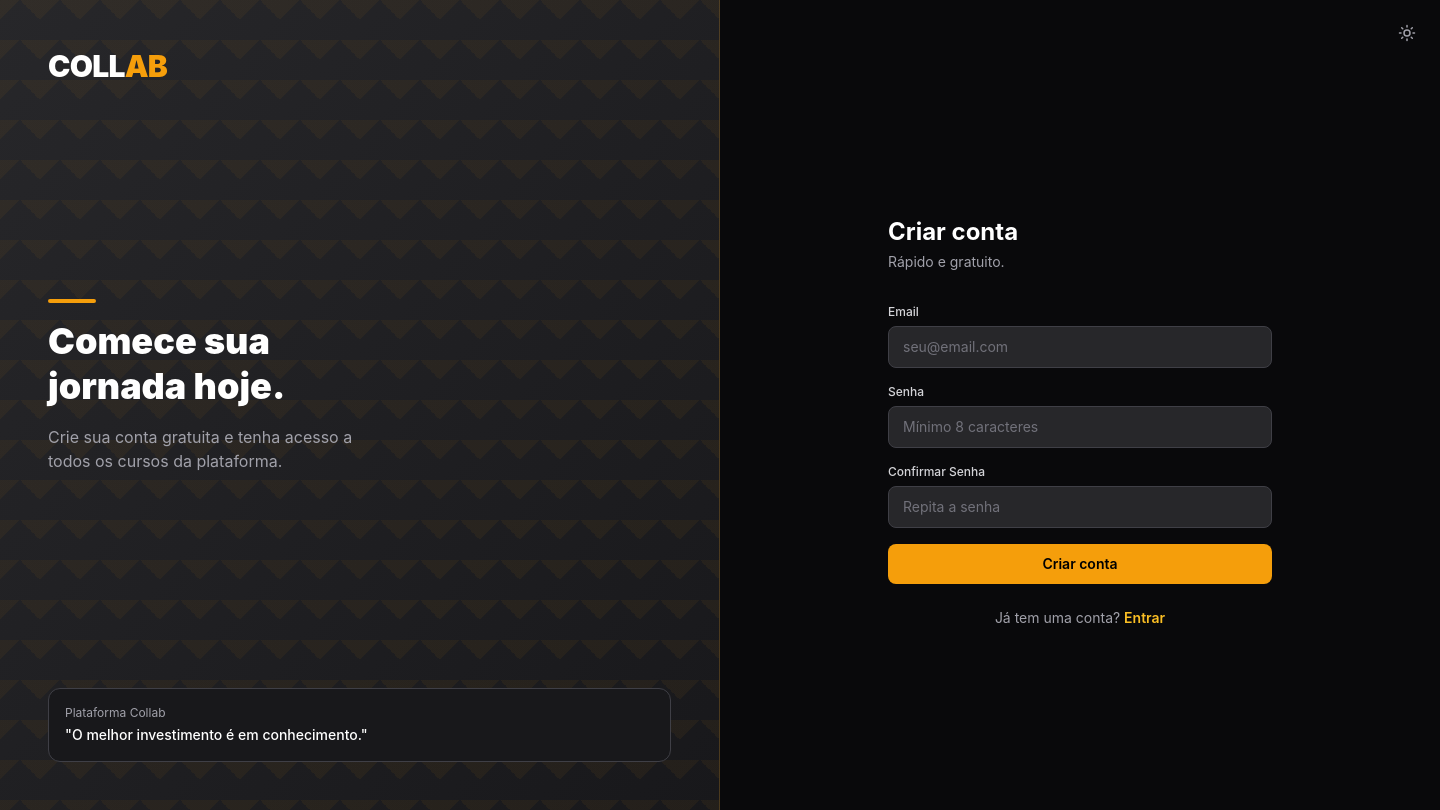
Scenario: SignupPage › shows error when passwords do not match
The image size is (1440, 810).
In the field with placeholder "seu@email.com": (1080, 347) [888,326,1272,368], type "a@b.com"
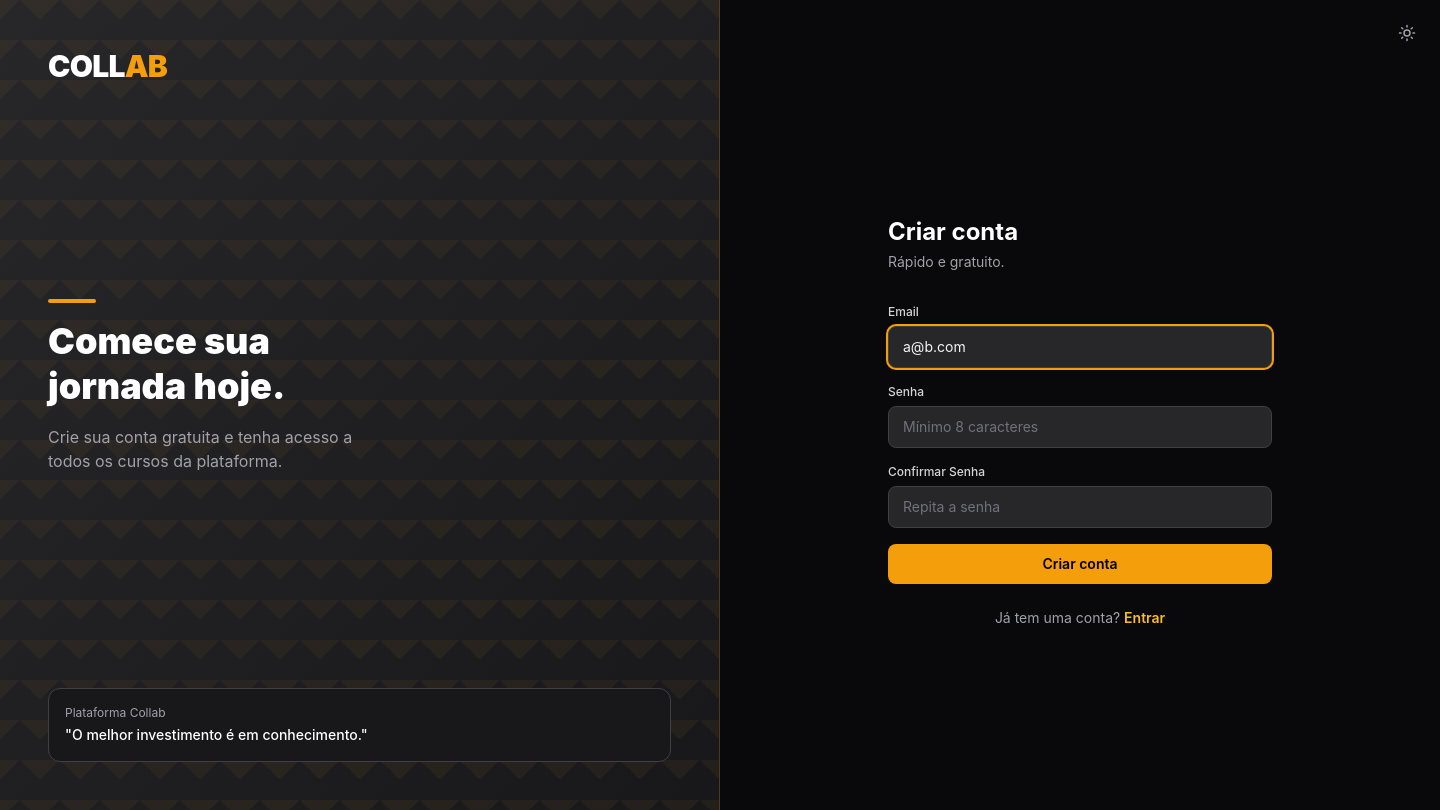
In the password field with placeholder "Mínimo 8 caracteres": (1080, 427) [888,406,1272,448], type "password1"
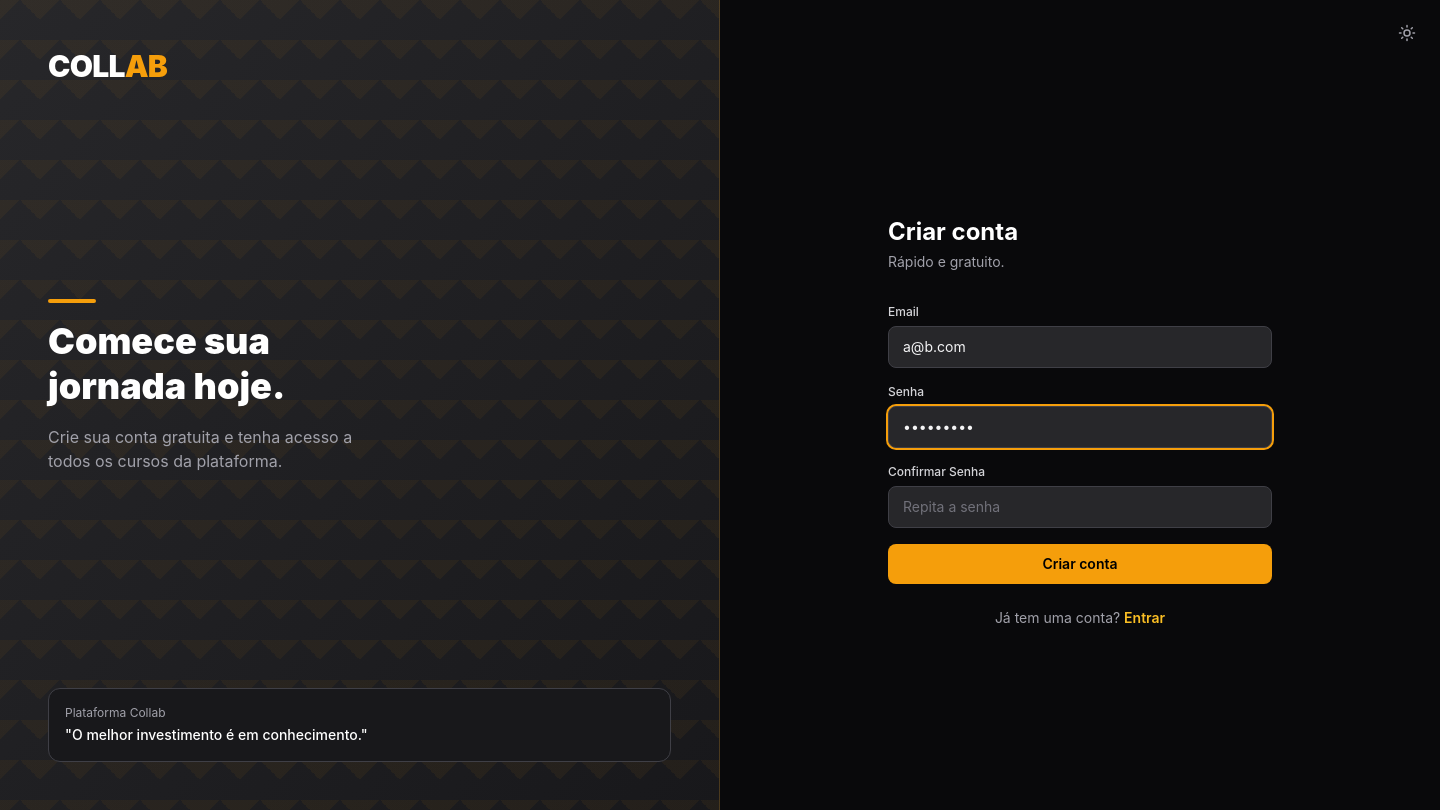
In the password field with placeholder "Repita a senha": (1080, 507) [888,486,1272,528], type "password2"
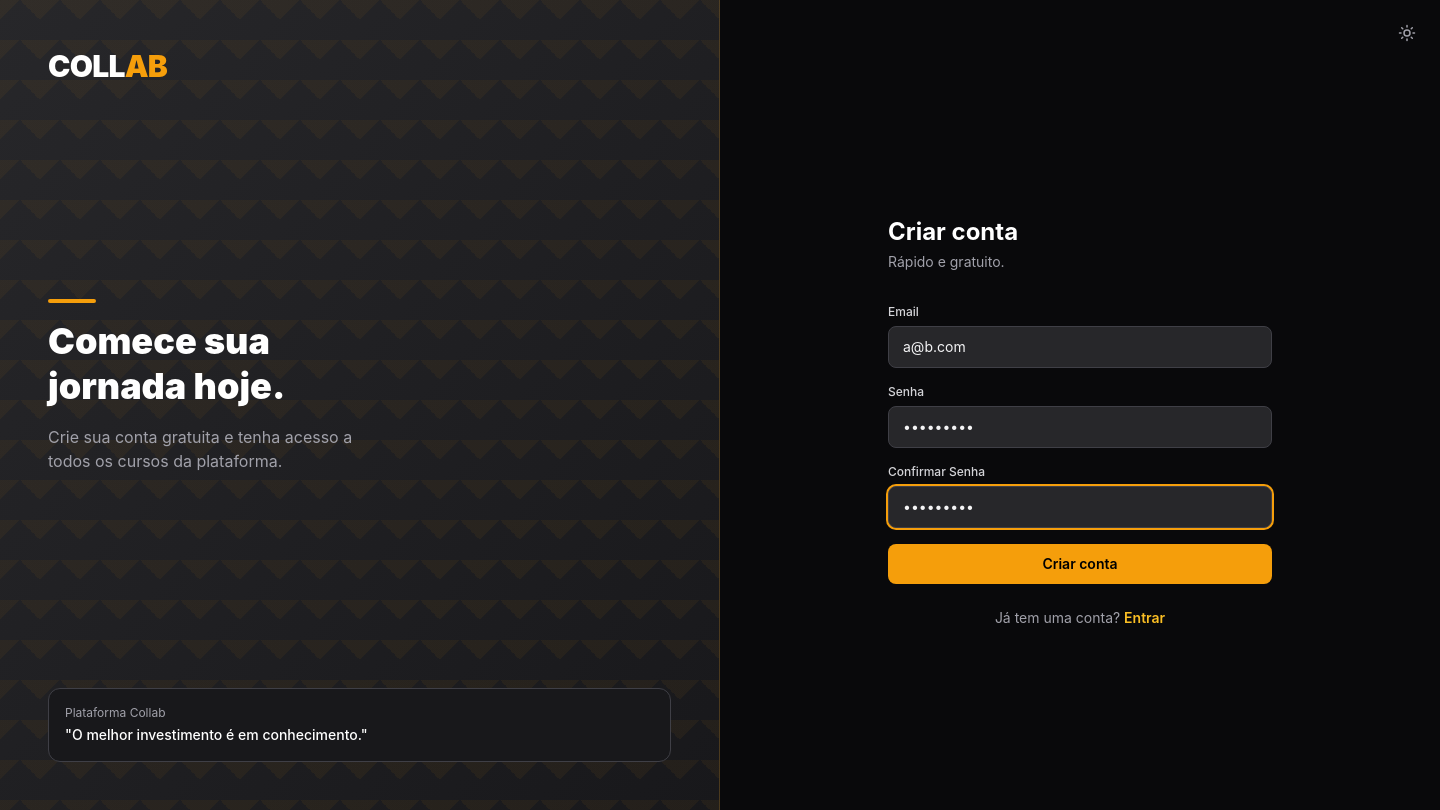
Click the button "Criar conta": (1080, 564) [888,544,1272,584]
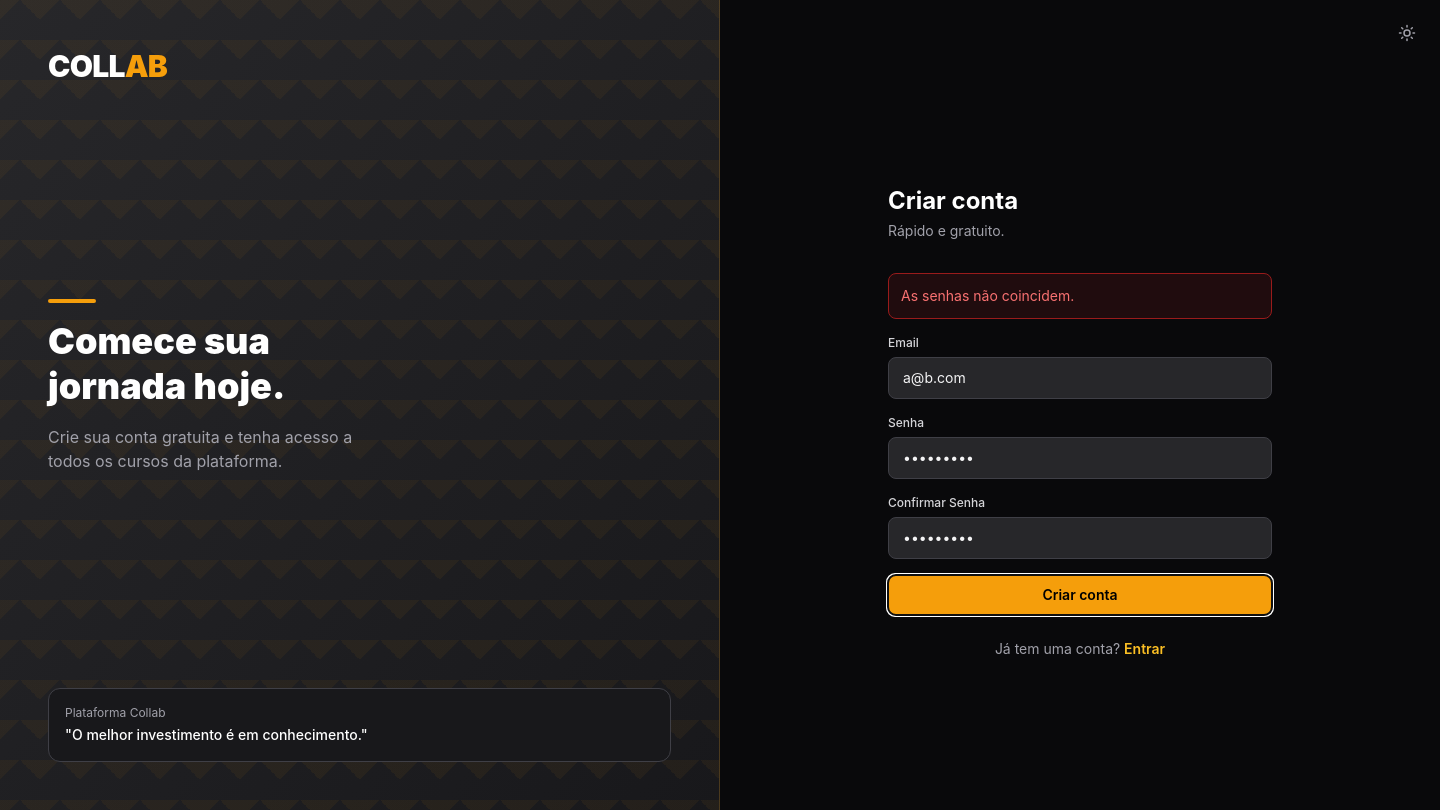
Now the text with test id "error-msg" shows "senhas não coincidem", box [901,287,1074,304]
